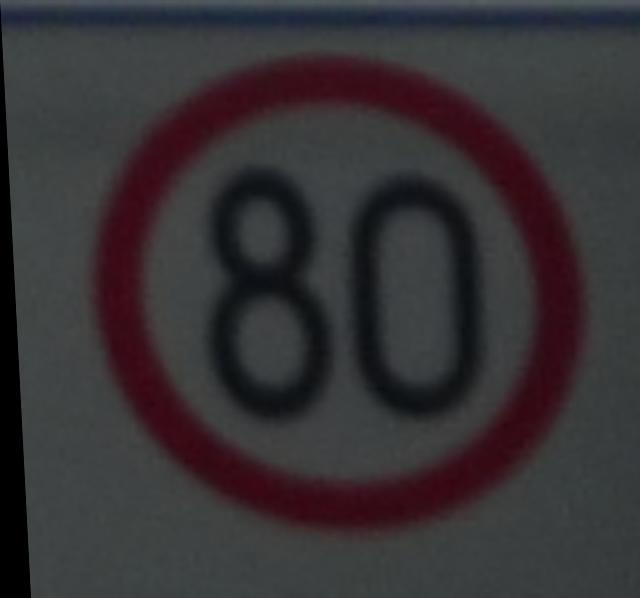limit80: (68, 53, 604, 539)
